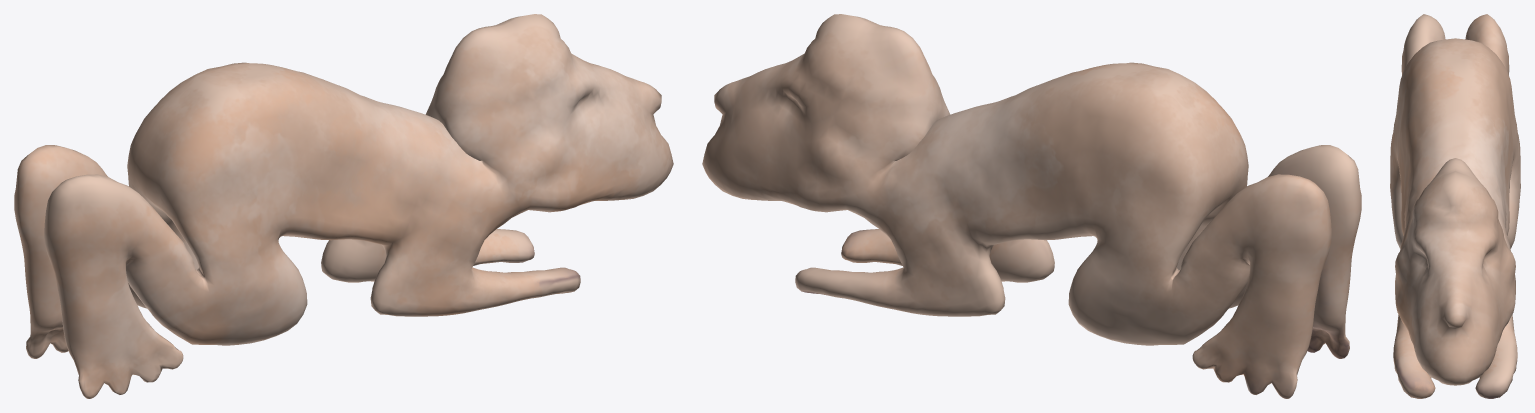
File: IncanStatueAfter3Ds.fbx
3 views of the same model, side by side, from view 1: azimuth 30°, elevation 25°; view 2: azimuth 150°, elevation 25°; view 3: azimuth 270°, elevation 25° (orthographic). The views are drawn at different scales.
Parts seen in each view (by area): view 1: IncanStatueZbrish1; view 2: IncanStatueZbrish1; view 3: IncanStatueZbrish1.
Boxes of the visible parts, bbox=[...] form: IncanStatueZbrish1: bbox=[14, 14, 673, 398]; IncanStatueZbrish1: bbox=[702, 14, 1361, 398]; IncanStatueZbrish1: bbox=[1390, 14, 1520, 398].
Bounding box in the file's own units: 61.29 × 25.59 × 13.32.
Materials: 1 (1 with a texture image).
